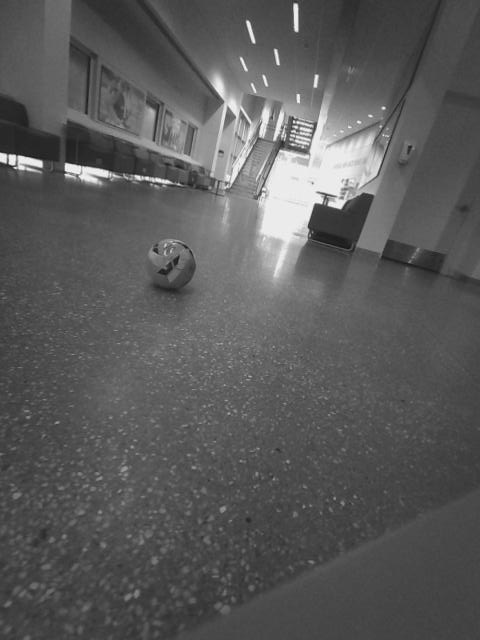ball: (141, 234, 201, 297)
